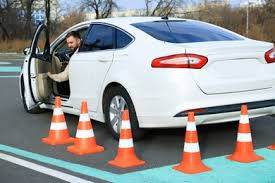car: (19, 15, 275, 140)
cone: (172, 112, 215, 175), (226, 104, 265, 164), (108, 109, 146, 169), (41, 94, 75, 146), (75, 101, 105, 154)
